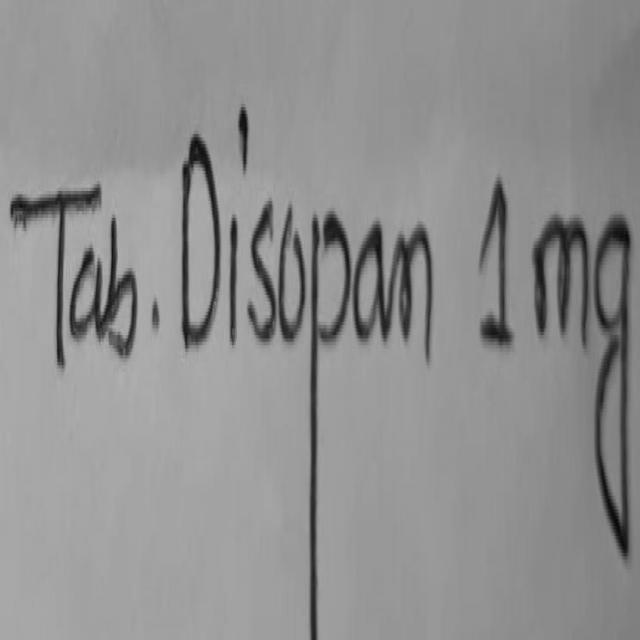1: (481, 178, 513, 340)
D: (183, 134, 221, 343)
T: (9, 184, 101, 364)
a: (355, 221, 388, 337), (70, 245, 111, 338)
b: (103, 214, 137, 354)
g: (596, 214, 631, 553)
i: (230, 214, 238, 343), (239, 104, 248, 166)
m: (534, 214, 589, 340)
n: (395, 221, 432, 357)
o: (278, 201, 306, 337)
p: (310, 211, 351, 638)
s: (248, 198, 276, 337)
